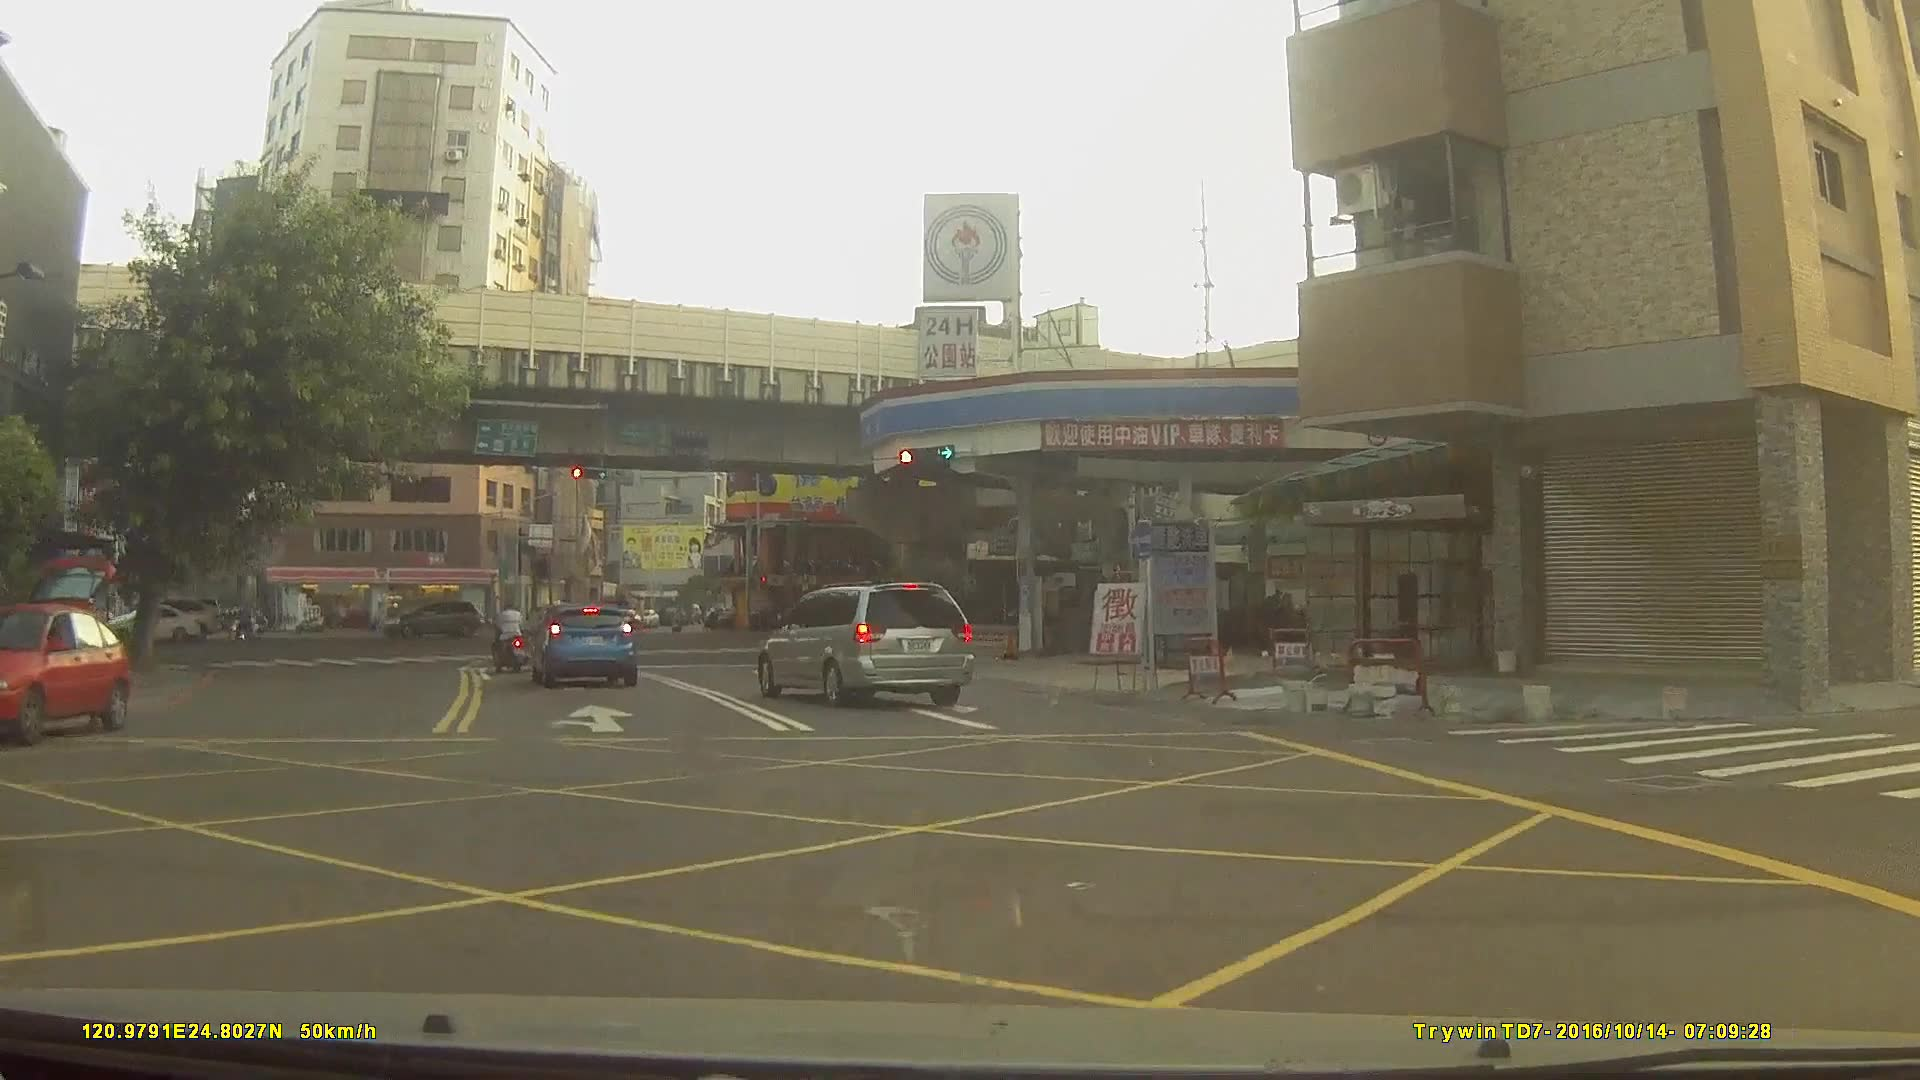rider: (492, 601, 529, 674), (230, 619, 258, 651)
vehicle: (758, 578, 975, 708), (0, 599, 129, 747), (532, 604, 638, 689), (103, 599, 203, 644), (377, 598, 482, 638), (531, 604, 610, 642)
